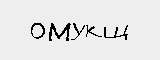К: (85, 22, 103, 41)
М: (48, 22, 70, 43)
О: (29, 19, 44, 42)
У: (73, 20, 85, 42)
Щ: (102, 22, 129, 39)
